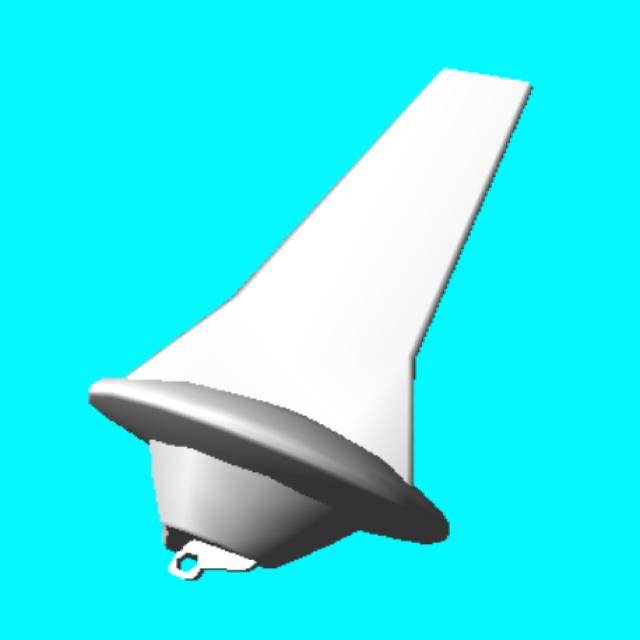WhiteBuoy: (90, 71, 529, 578)
